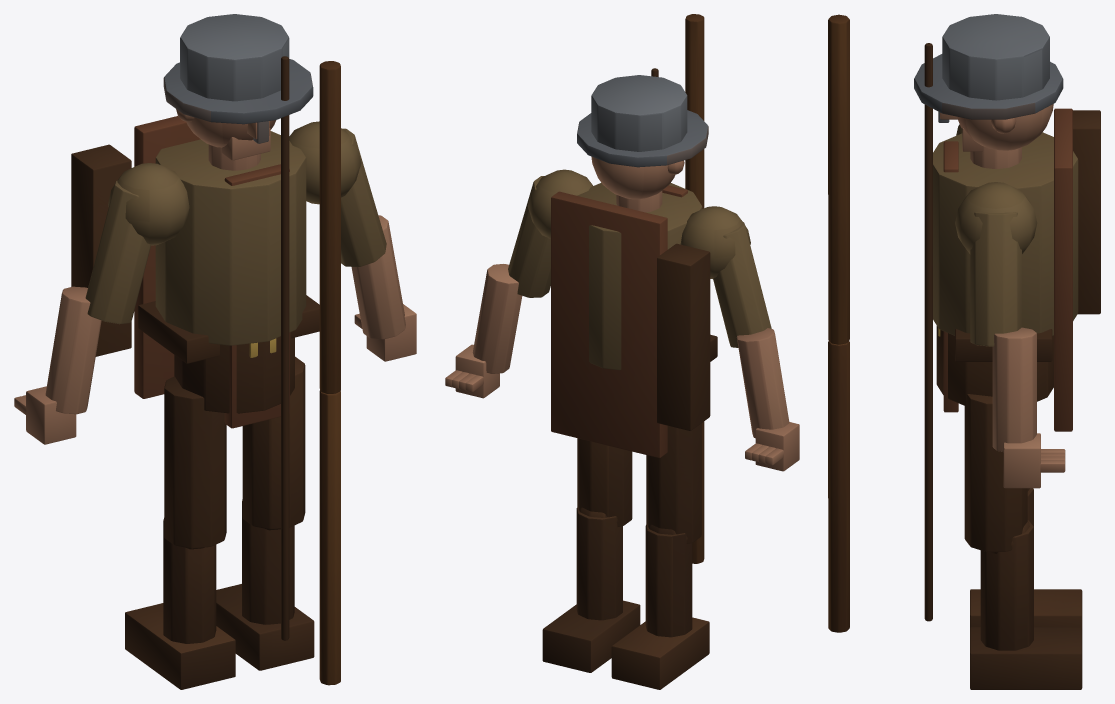
The model's file is unit_archer.fbx.
3 renders of one model, left to right at view 1: azimuth 30°, elevation 25°; view 2: azimuth 150°, elevation 25°; view 3: azimuth 270°, elevation 25°, orthographic. The views are drawn at different scales.
Visible parts, largest first — view 1: unit_archer; view 2: unit_archer; view 3: unit_archer.
Boxes of the visible parts, <box> form: unit_archer: <box>14,14,416,689</box>; unit_archer: <box>445,14,799,689</box>; unit_archer: <box>828,14,1100,689</box>.
Size of the model in its own units: 1.14 by 1.91 by 0.7293.
